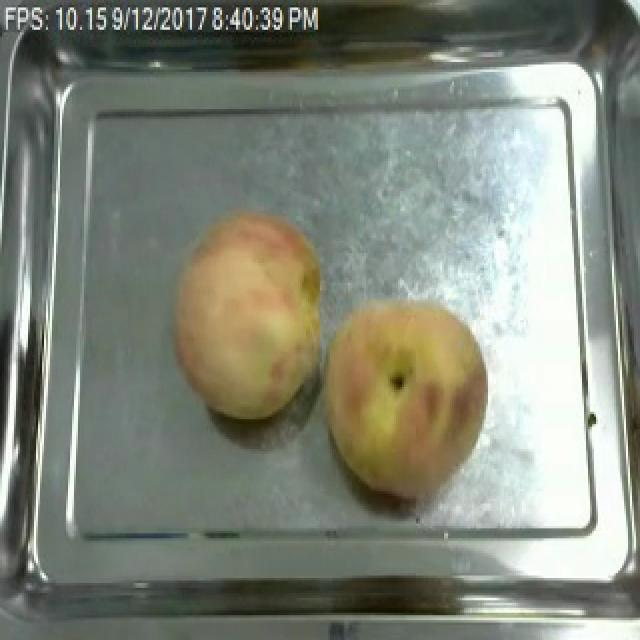Fruit: (314, 287, 496, 503), (166, 201, 330, 427)
